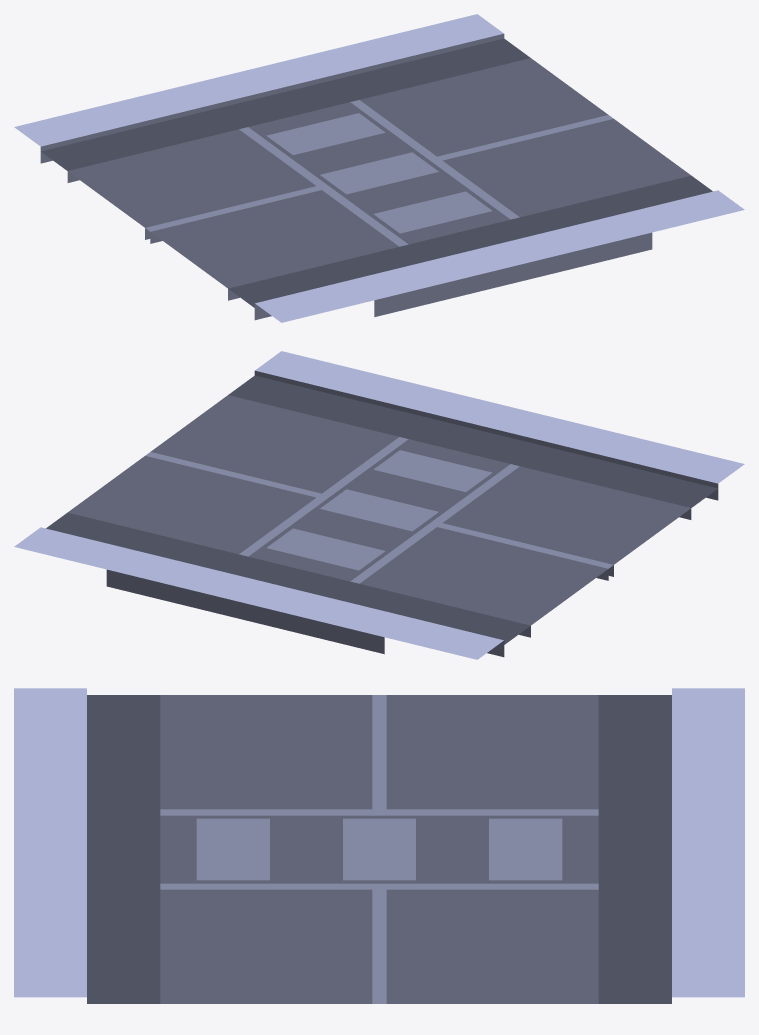
File: road-crossing.glb
3 renders of one model, top to bottom at view 1: azimuth 30°, elevation 25°; view 2: azimuth 150°, elevation 25°; view 3: azimuth 270°, elevation 25°, orthographic. The views are drawn at different scales.
Visible parts, largest first — view 1: road-crossing; view 2: road-crossing; view 3: road-crossing.
Part boxes in pixels (left/top/right/bottom): road-crossing: left=14, top=14, right=744, bottom=322; road-crossing: left=14, top=351, right=744, bottom=659; road-crossing: left=14, top=688, right=744, bottom=1003.
Size of the model in its own units: 1 by 0.035 by 1.
1 material, 1 textured.
